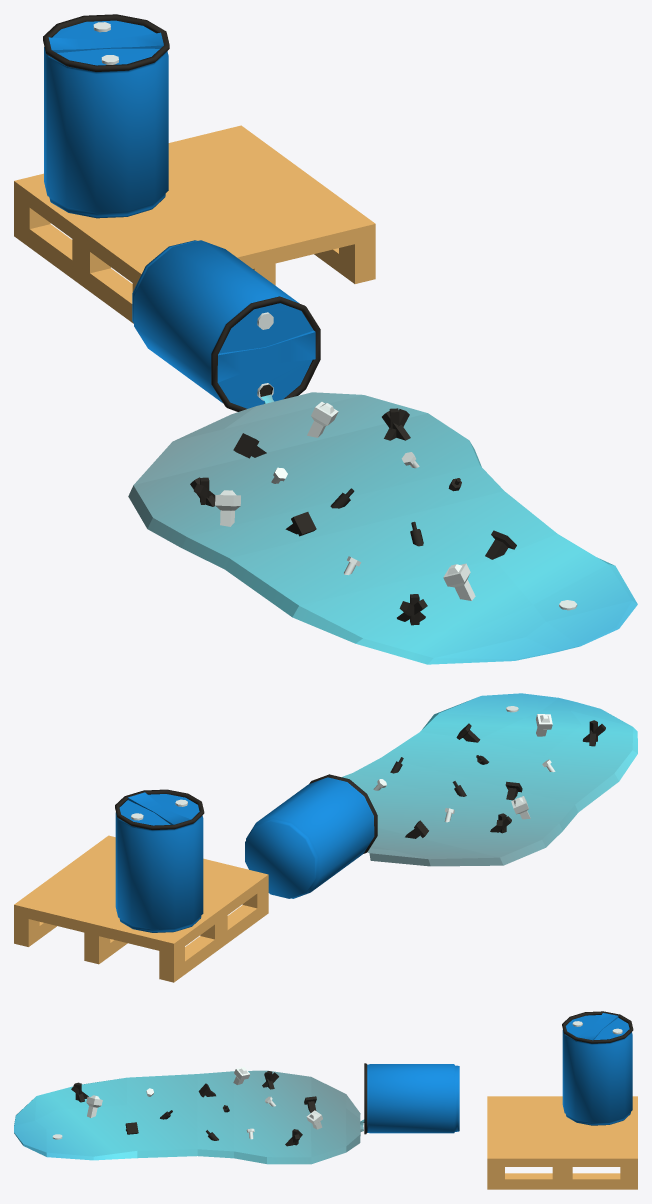
Rendered from Barrels.FBX.
3 renders of one model, top to bottom at view 1: azimuth 30°, elevation 25°; view 2: azimuth 150°, elevation 25°; view 3: azimuth 270°, elevation 25°, orthographic. The views are drawn at different scales.
Parts seen in each view (by area): view 1: Water, Panel, Barrel Norm, Barrrel Destroyed, Particles; view 2: Water, Panel, Barrel Norm, Barrrel Destroyed, Particles; view 3: Water, Panel, Barrel Norm, Barrrel Destroyed, Particles.
Part boxes in pixels (x1,y1,x2,y2): Water: [128, 392, 637, 664]; Panel: [14, 125, 375, 323]; Barrel Norm: [43, 14, 169, 218]; Barrrel Destroyed: [132, 240, 320, 411]; Particles: [190, 402, 516, 625]; Water: [341, 693, 637, 866]; Panel: [14, 835, 268, 982]; Barrel Norm: [115, 789, 204, 932]; Barrrel Destroyed: [245, 774, 377, 898]; Particles: [373, 714, 605, 838]; Water: [14, 1070, 360, 1164]; Panel: [487, 1096, 637, 1189]; Barrel Norm: [562, 1011, 633, 1125]; Barrrel Destroyed: [364, 1063, 459, 1134]; Particles: [71, 1067, 322, 1146].
Size of the model in its own units: 137 by 65.83 by 311.
